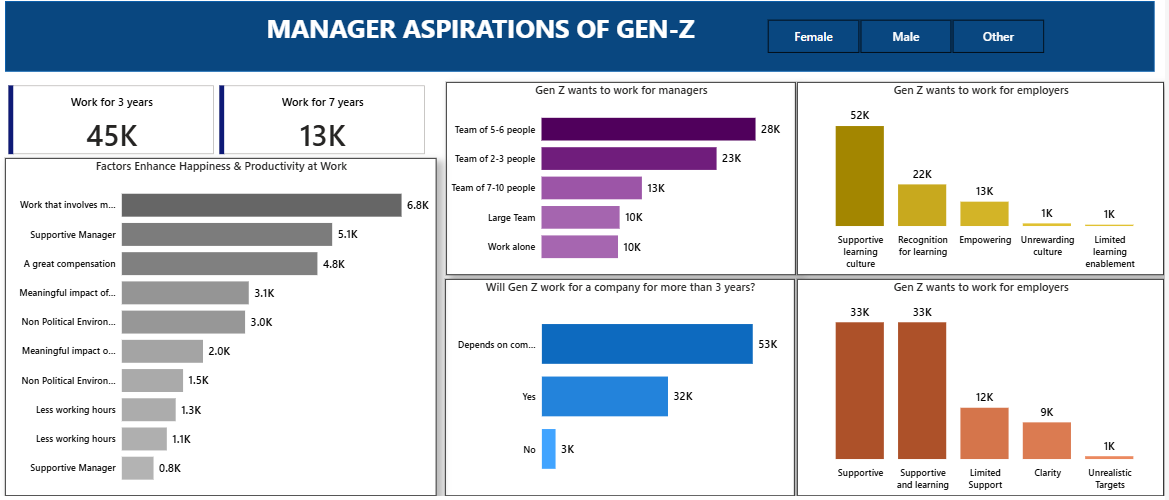

What the dashboard file says about the page in this screenshot:
{"tool":"powerbi","page":{"name":"Page 2","canvas":[1700,720],"ordinal":1},"visuals":[{"type":"shape","box":[11.1,0,1673.1,102.7],"z":0},{"type":"textbox","box":[351,9.1,705.6,82.3],"z":1000},{"type":"slicer","fields":{"Values":["Form responses 1.Gender"]},"box":[1096.5,20.5,451.9,61.6],"z":2000},{"type":"cardVisual","fields":{"Data":["Form responses 1.Work for 3 years","Form responses 1.Work for 7 years"]},"box":[11.3,117.6,616.5,110.6],"z":3000},{"type":"barChart","title":"Gen Z wants to work for managers","fields":{"Y":["CountNonNull(Form responses 1.Likelihood of Staying with One Employer for 7+ Years)"],"Category":["Form responses 1.Preferred Work Setup"]},"box":[653.4,117.6,508.8,280.6],"z":4000},{"type":"barChart","title":"Will Gen Z work for a company for more than 3 years?","fields":{"Category":["Form responses 1.Likelihood of Staying with One Employer for 3+ Years"],"Y":["CountNonNull(Form responses 1.Likelihood of Staying with One Employer for 3+ Years)"]},"box":[652,403.9,508.8,316.1],"z":5000},{"type":"columnChart","title":"Gen Z wants to work for employers","fields":{"Category":["Form responses 1.Preferred Employers to Work With"],"Y":["CountNonNull(Form responses 1.Preferred Employers to Work With)"]},"box":[1165,117.6,534.3,280.6],"z":6000},{"type":"columnChart","title":"Gen Z wants to work for employers","fields":{"Category":["Form responses 1.Ideal Manager You'd Work for Without Checking the Time"],"Y":["CountNonNull(Form responses 1.Ideal Manager You'd Work for Without Checking the Time)"]},"box":[1165,403.9,534.3,316.1],"z":7000},{"type":"barChart","title":"Factors Enhance Happiness & Productivity at Work","fields":{"Category":["Form responses 1.Factors That Enhance Happiness and Productivity at Work"],"Y":["CountNonNull(Form responses 1.Factors That Enhance Happiness and Productivity at Work)"]},"box":[11.3,228.2,627.9,491.8],"z":7001}]}

Visuals, with their boxes in screenshot pixels (x1, y1, x2, y2), scaled from the page's 1700x720 canvas onto the 1169x500 screenshot:
shape: {"left": 8, "top": 0, "right": 1158, "bottom": 71}
textbox: {"left": 241, "top": 6, "right": 727, "bottom": 63}
slicer - Form responses 1.Gender: {"left": 754, "top": 14, "right": 1065, "bottom": 57}
cardVisual - Form responses 1.Work for 3 years x Form responses 1.Work for 7 years: {"left": 8, "top": 82, "right": 432, "bottom": 158}
"Gen Z wants to work for managers" barChart: {"left": 449, "top": 82, "right": 799, "bottom": 277}
"Will Gen Z work for a company for more than 3 years?" barChart: {"left": 448, "top": 280, "right": 798, "bottom": 499}
"Gen Z wants to work for employers" columnChart: {"left": 801, "top": 82, "right": 1168, "bottom": 277}
"Gen Z wants to work for employers" columnChart: {"left": 801, "top": 280, "right": 1168, "bottom": 499}
"Factors Enhance Happiness & Productivity at Work" barChart: {"left": 8, "top": 158, "right": 440, "bottom": 499}
